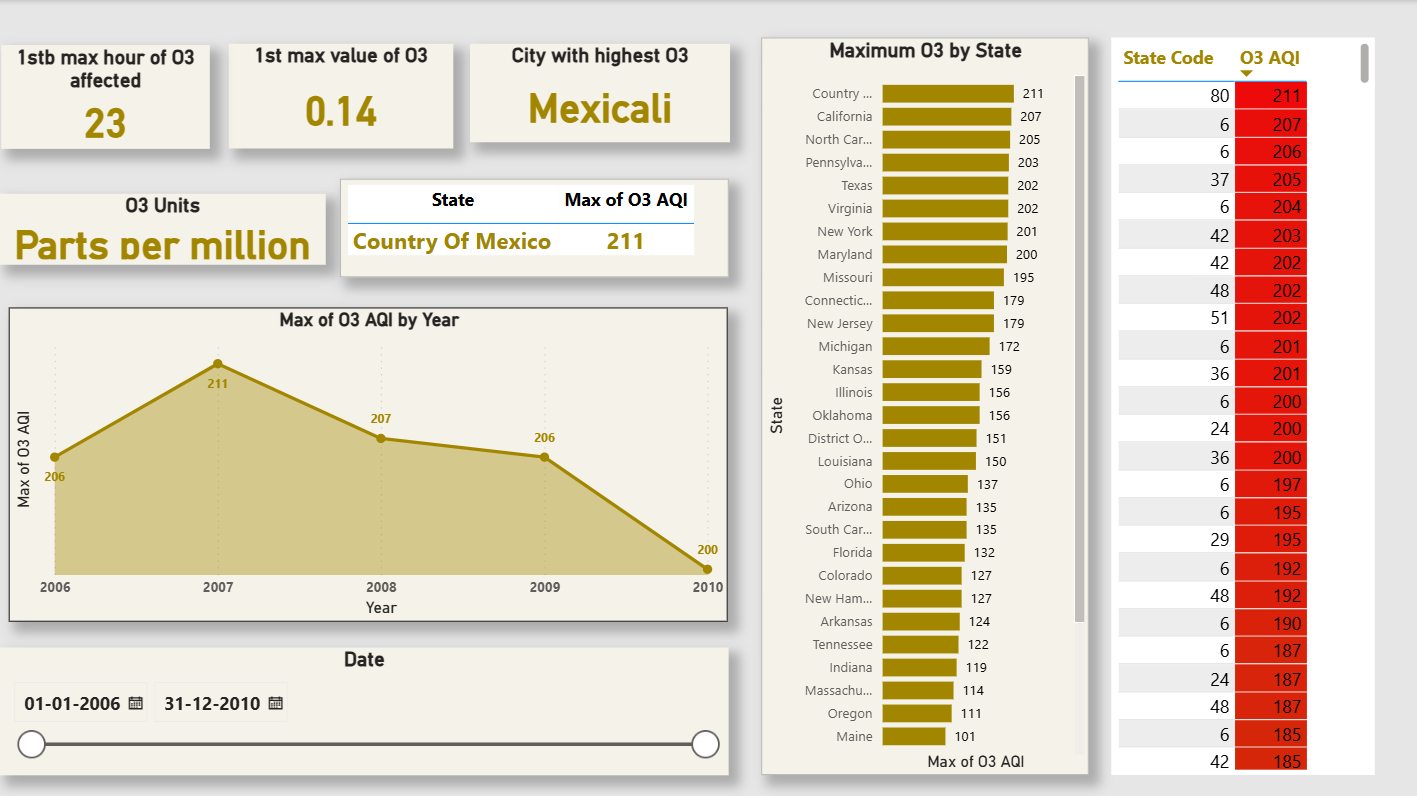

Layout of this report page (visuals, bound fields, positions):
{"tool":"powerbi","page":{"name":"Ozone (O3)","canvas":[1280,720],"ordinal":2},"visuals":[{"type":"slicer","title":"Date","fields":{"Values":["US Pollution.Date Local"]},"box":[0,583.2,657,115.5],"z":0},{"type":"card","title":"1st max value of O3","fields":{"Values":["Max(US Pollution.O3 1st Max Value)"]},"box":[206.4,39.8,202.6,94.7],"z":1000},{"type":"card","title":"O3 Units","fields":{"Values":["Min(US Pollution.O3 Units)"]},"box":[0,174.2,293.5,64.4],"z":2000},{"type":"areaChart","fields":{"Category":["US Pollution.Date Local.Variation.Date Hierarchy.Year"],"Y":["Max(US Pollution.O3 AQI)"]},"box":[8.3,276.7,648.3,283.3],"z":3000},{"type":"barChart","title":"Maximum O3 by State","fields":{"Category":["US Pollution.State"],"Y":["Max(US Pollution.O3 AQI)"]},"box":[686.7,33.3,295,665],"z":4000},{"type":"tableEx","fields":{"Values":["US Pollution.State Code","US Pollution.O3 AQI"]},"box":[1001.5,34,237.8,665],"z":5000},{"type":"card","title":"1stb max hour of O3 affected","fields":{"Values":["Max(US Pollution.O3 1st Max Hour)"]},"box":[1.7,40,188.3,93.3],"z":6000},{"type":"card","title":"City with highest O3","fields":{"Values":["Min(US Pollution.City)"]},"box":[424.1,39.8,234.8,89],"z":7000},{"type":"tableEx","fields":{"Values":["US Pollution.State","Max(US Pollution.O3 AQI)"]},"box":[306.7,160.9,350.3,89],"z":8000}]}

Visuals, with their boxes in screenshot pixels (x1, y1, x2, y2), scaled from the page's 1280x720 canvas onto the 1417x796 screenshot:
"Date" slicer: box=[0, 645, 727, 772]
"1st max value of O3" card: box=[228, 44, 453, 149]
"O3 Units" card: box=[0, 193, 325, 264]
areaChart - US Pollution.Date Local.Variation.Date Hierarchy.Year x Max(US Pollution.O3 AQI): box=[9, 306, 727, 619]
"Maximum O3 by State" barChart: box=[760, 37, 1087, 772]
tableEx - US Pollution.State Code x US Pollution.O3 AQI: box=[1109, 38, 1372, 773]
"1stb max hour of O3 affected" card: box=[2, 44, 210, 147]
"City with highest O3" card: box=[469, 44, 729, 142]
tableEx - US Pollution.State x Max(US Pollution.O3 AQI): box=[340, 178, 727, 276]
